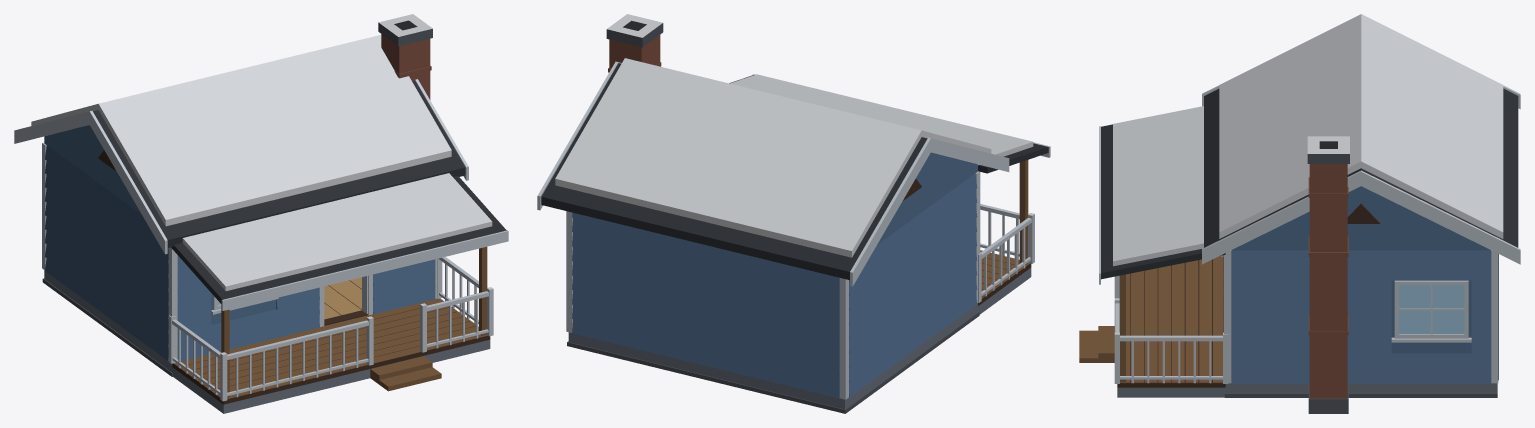
The model's file is cabin.glb.
The picture shows the model from 3 angles, left to right: view 1: azimuth 30°, elevation 25°; view 2: azimuth 150°, elevation 25°; view 3: azimuth 270°, elevation 25°; orthographic projection. The views are drawn at different scales.
Parts seen in each view (by area): view 1: Roof, Porch, WallRight, WallFront, Floor, Chimney, WallBack; view 2: Roof, WallBack, WallRight, Floor, Porch, Chimney, WallFront; view 3: Roof, WallLeft, Porch, Chimney, Floor, WindowsLeft, WallBack, WallFront.
Part boxes in pixels (x1=…): Roof: x1=14, y1=35, x2=508, y2=397; Porch: x1=169, y1=257, x2=493, y2=413; WallRight: x1=45, y1=144, x2=168, y2=360; WallFront: x1=168, y1=247, x2=437, y2=361; Floor: x1=42, y1=270, x2=368, y2=376; Chimney: x1=378, y1=14, x2=432, y2=99; WallBack: x1=42, y1=142, x2=46, y2=269; Roof: x1=537, y1=58, x2=1050, y2=286; WallBack: x1=566, y1=211, x2=848, y2=399; WallRight: x1=849, y1=173, x2=977, y2=397; Floor: x1=567, y1=303, x2=979, y2=413; Porch: x1=978, y1=204, x2=1034, y2=314; Chimney: x1=606, y1=14, x2=663, y2=72; WallFront: x1=975, y1=171, x2=980, y2=302; Roof: x1=1099, y1=14, x2=1520, y2=381; WallLeft: x1=1231, y1=250, x2=1491, y2=383; Porch: x1=1079, y1=255, x2=1228, y2=397; Chimney: x1=1307, y1=136, x2=1349, y2=413; Floor: x1=1224, y1=383, x2=1497, y2=397; WindowsLeft: x1=1399, y1=285, x2=1464, y2=333; WallBack: x1=1491, y1=250, x2=1498, y2=383; WallFront: x1=1221, y1=250, x2=1231, y2=383.
Size of what is drawn, in the model's own units: 7.16 by 5.3 by 8.14.
